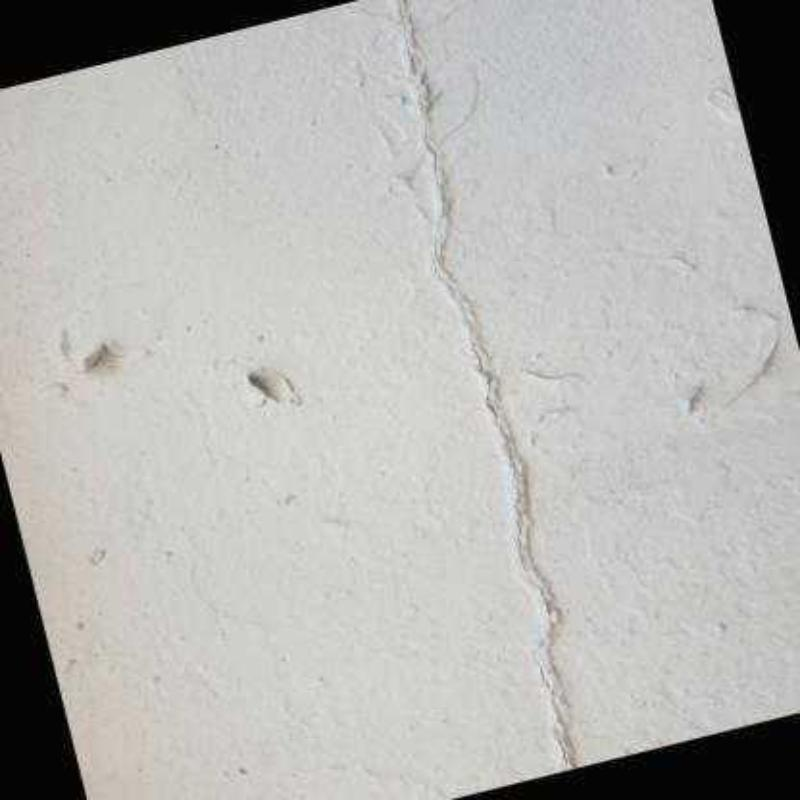pothole: (394, 0, 578, 773)
